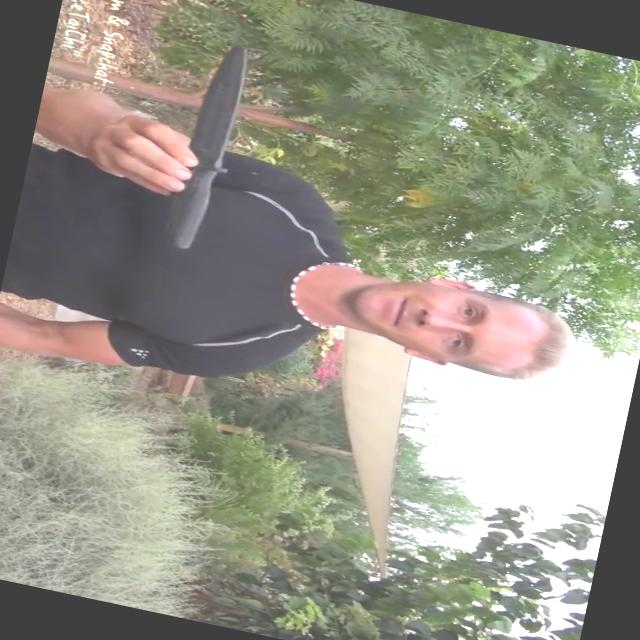knife: (148, 28, 263, 264)
